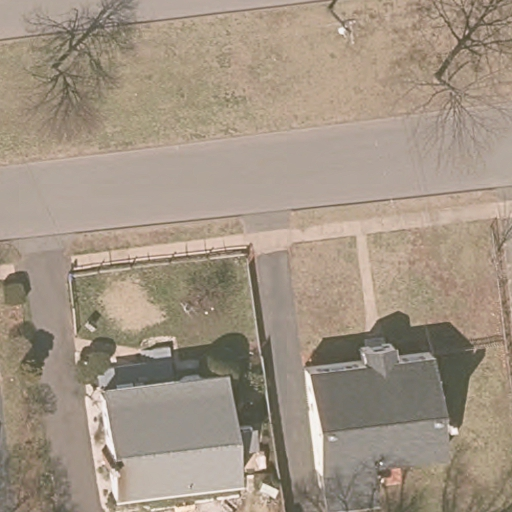DT: (327, 8, 360, 49)
